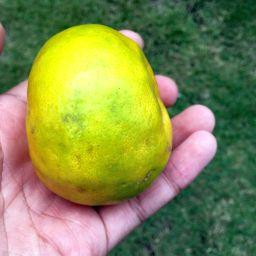Ripe: (27, 25, 176, 209)
